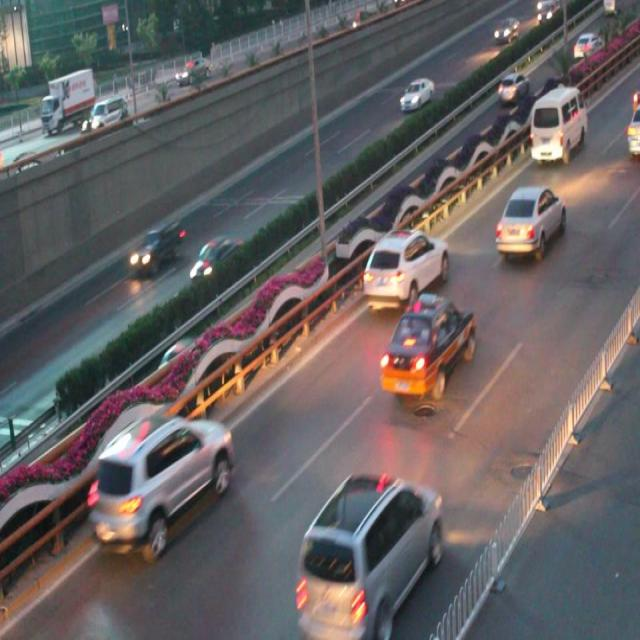car: (294, 468, 442, 628), (89, 413, 234, 556), (379, 298, 478, 400), (362, 223, 448, 310), (495, 184, 565, 262), (126, 219, 186, 274), (188, 231, 241, 286), (155, 336, 198, 374), (397, 76, 434, 114)
truck: (529, 86, 585, 164)
